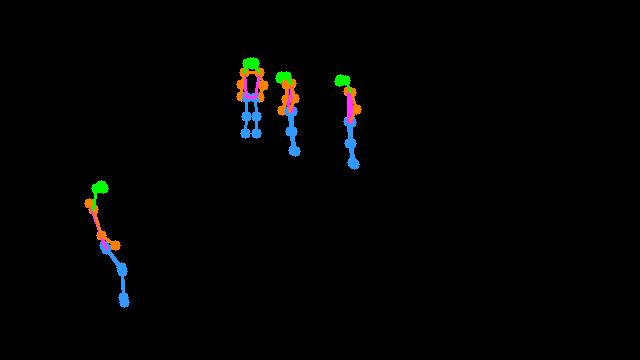normal: (73, 173, 144, 317), (228, 50, 308, 167), (323, 64, 378, 179)
